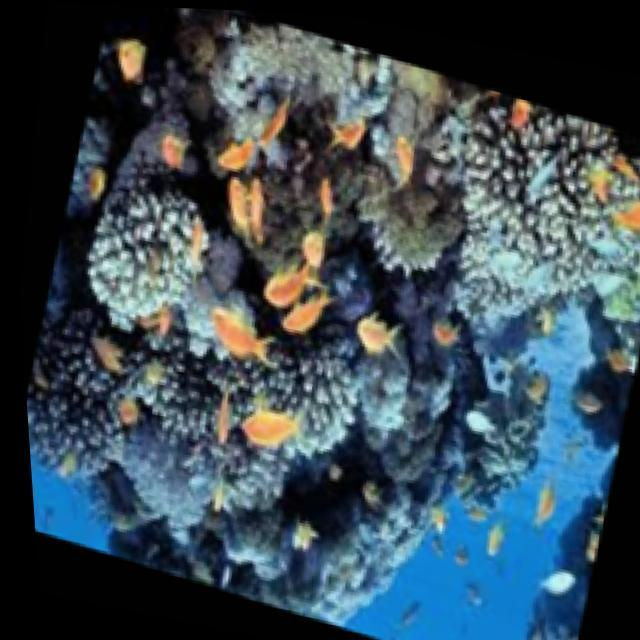Dead Coral: (15, 296, 308, 521)
